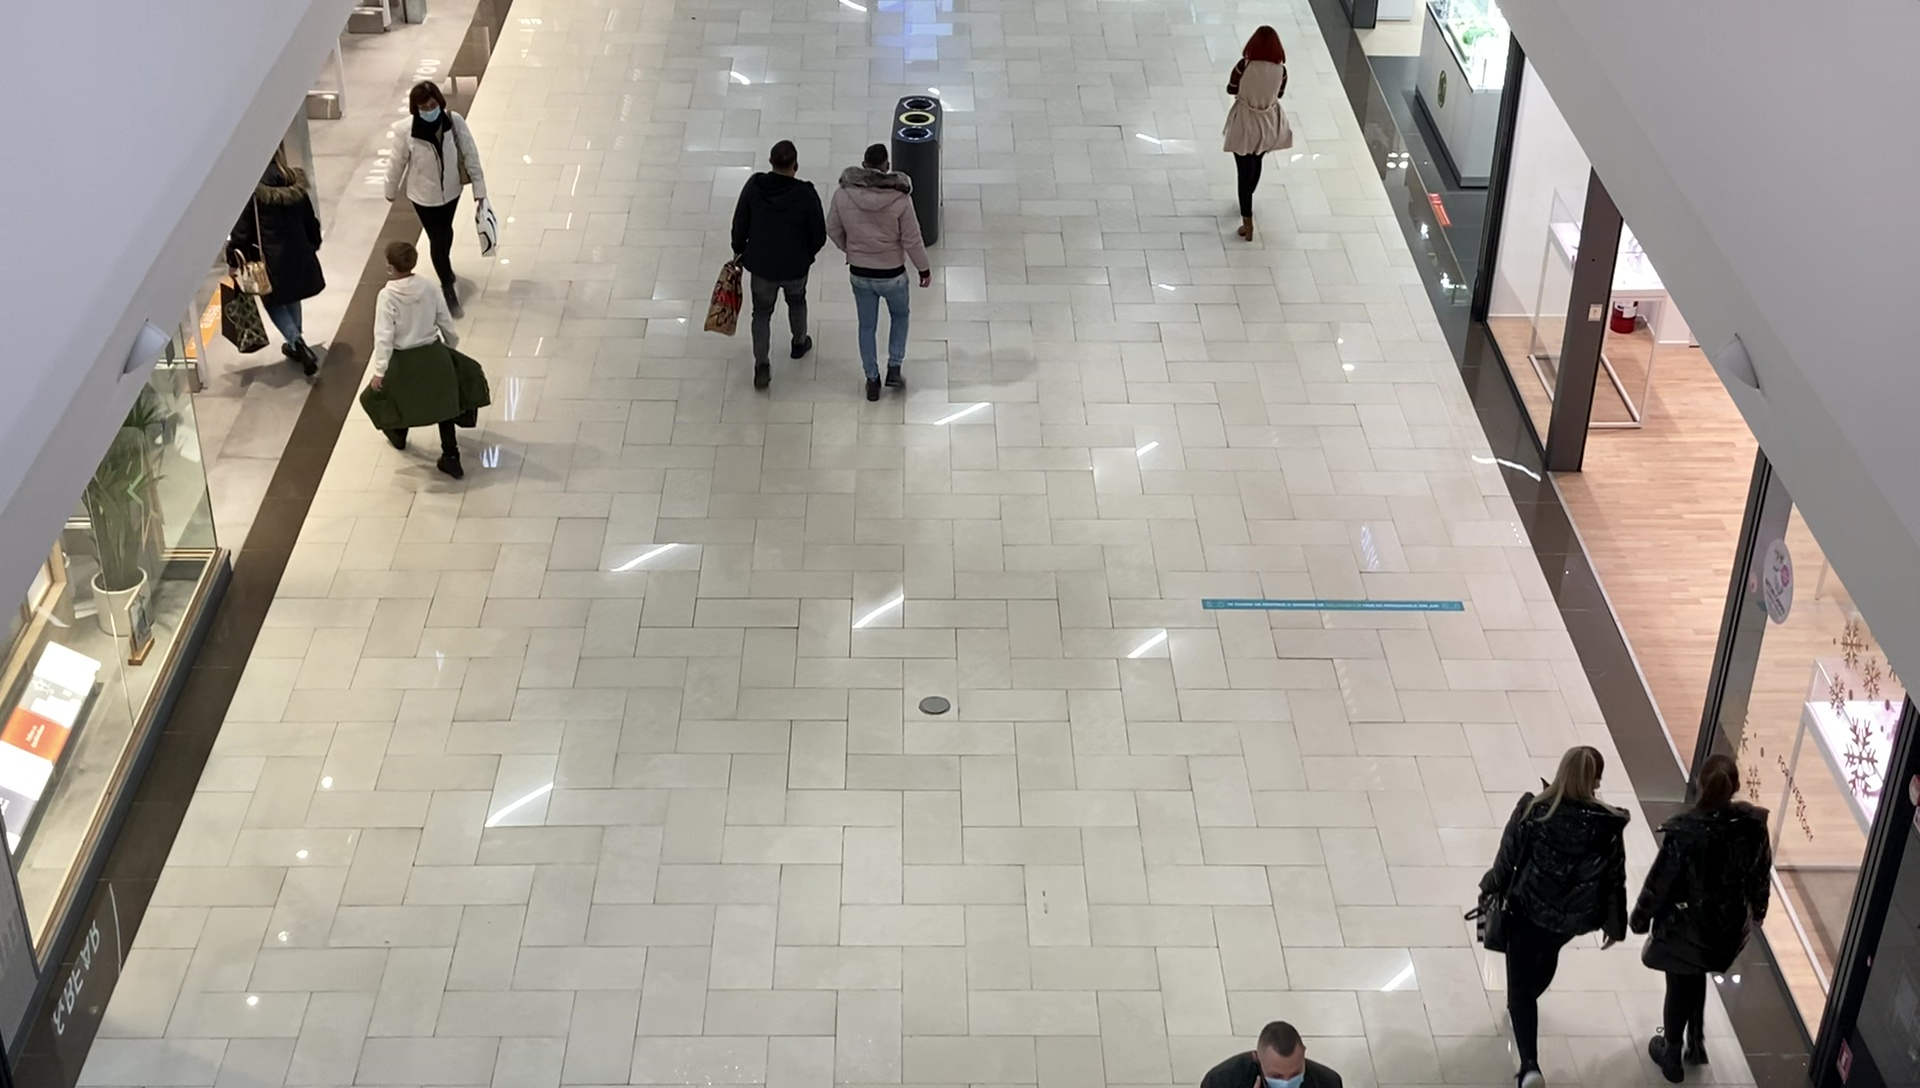person: (1475, 745, 1628, 1088), (1631, 755, 1773, 1088), (824, 145, 936, 401), (381, 83, 489, 315), (364, 241, 470, 479), (732, 141, 827, 393), (224, 152, 322, 379), (1223, 25, 1290, 241)
